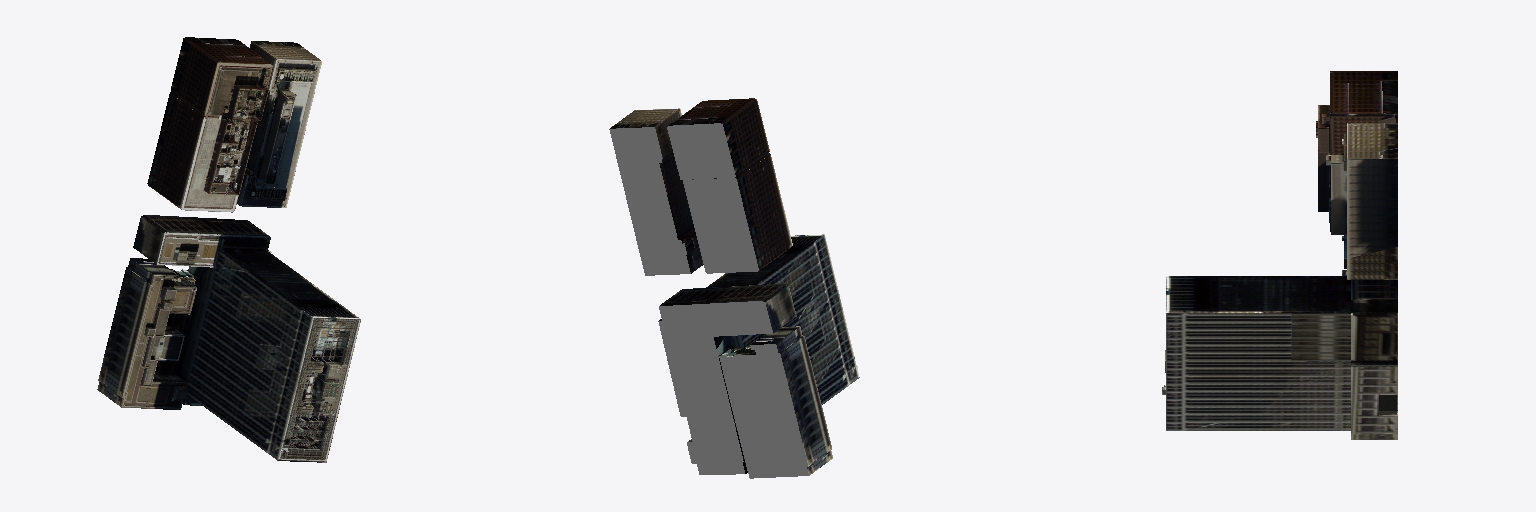
3 views of the same model, side by side, from view 1: azimuth 30°, elevation 25°; view 2: azimuth 150°, elevation 25°; view 3: azimuth 270°, elevation 25° (orthographic).
Bounding box in the file's own units: 148 × 253 × 151.
5 materials, 5 textured.